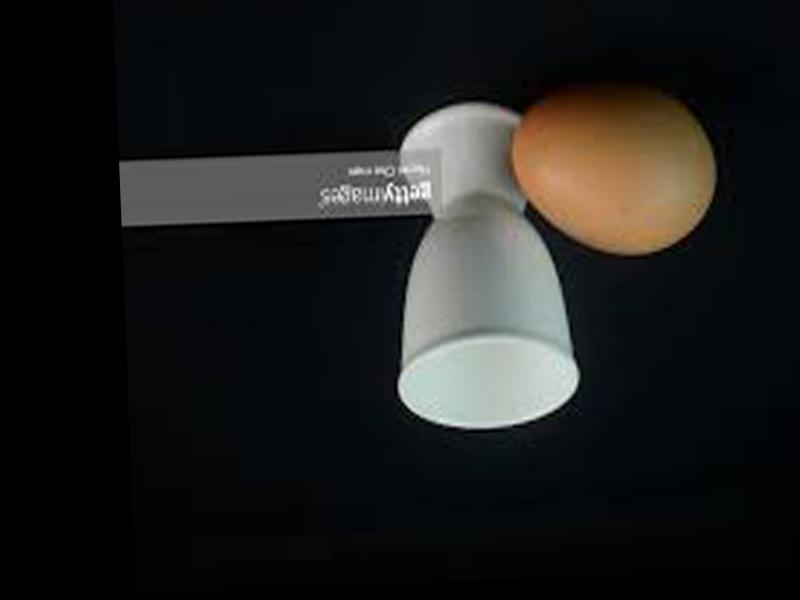Eggs: (507, 88, 716, 259)
